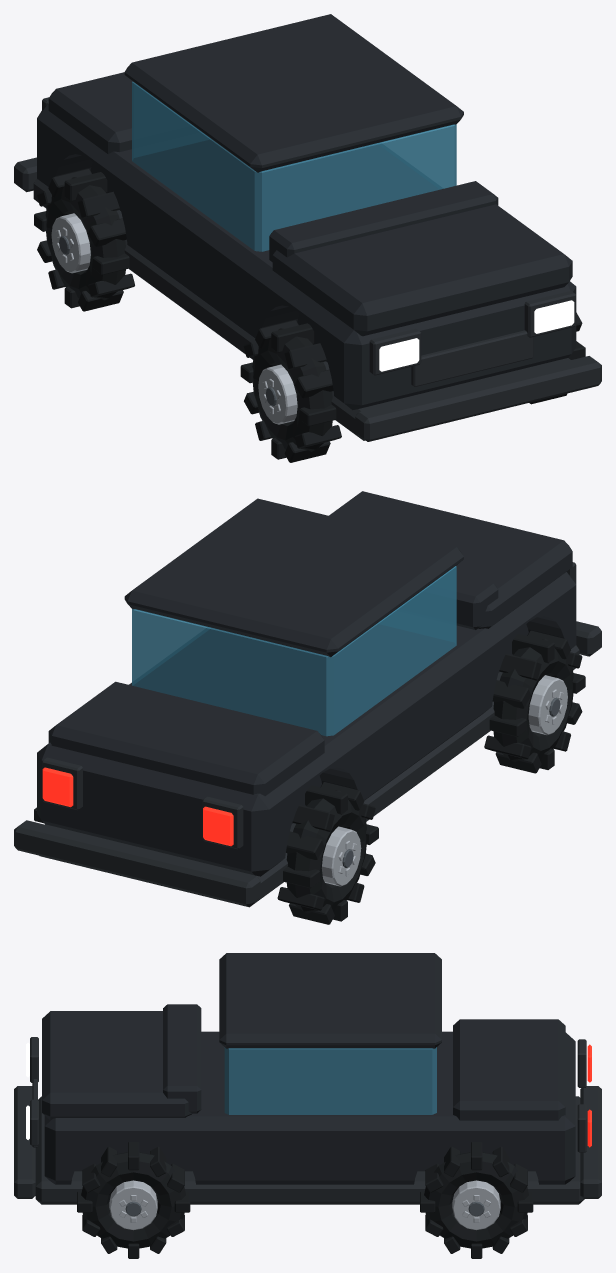
Rendered from Sedan.glb.
3 views of the same model, one above another, from view 1: azimuth 30°, elevation 25°; view 2: azimuth 150°, elevation 25°; view 3: azimuth 270°, elevation 25° (orthographic). The views are drawn at different scales.
Visible parts, largest first — view 1: BodyPaint_Mesh, Glass_Mesh, Trim_Mesh, Wheel_FL_Tire, Wheel_RL_Tire, Wheel_RL_Hub, Wheel_FL_Hub, HeadlightGlow_L, HeadlightGlow_R; view 2: BodyPaint_Mesh, Glass_Mesh, Trim_Mesh, Wheel_FL_Tire, Wheel_RL_Tire, Wheel_RL_Hub, Wheel_FL_Hub, TailLightGlow_R, TailLightGlow_L; view 3: BodyPaint_Mesh, Glass_Mesh, Trim_Mesh, Wheel_RR_Tire, Wheel_FR_Tire, Wheel_FR_Hub, Wheel_RR_Hub.
Part boxes in pixels (x1,y1,x2,y2): BodyPaint_Mesh: [37, 14, 576, 410]; Glass_Mesh: [132, 81, 456, 251]; Trim_Mesh: [14, 97, 601, 441]; Wheel_FL_Tire: [240, 320, 341, 462]; Wheel_RL_Tire: [34, 168, 134, 311]; Wheel_RL_Hub: [51, 213, 90, 273]; Wheel_FL_Hub: [258, 364, 297, 424]; HeadlightGlow_L: [379, 338, 419, 371]; HeadlightGlow_R: [534, 300, 574, 333]; BodyPaint_Mesh: [37, 491, 576, 876]; Glass_Mesh: [132, 566, 456, 736]; Trim_Mesh: [14, 562, 601, 907]; Wheel_FL_Tire: [484, 630, 585, 773]; Wheel_RL_Tire: [277, 782, 378, 924]; Wheel_RL_Hub: [321, 826, 361, 886]; Wheel_FL_Hub: [528, 675, 567, 735]; TailLightGlow_R: [42, 767, 73, 807]; TailLightGlow_L: [203, 806, 233, 846]; BodyPaint_Mesh: [42, 953, 575, 1184]; Glass_Mesh: [224, 1047, 436, 1114]; Trim_Mesh: [14, 1037, 601, 1204]; Wheel_RR_Tire: [420, 1142, 533, 1258]; Wheel_FR_Tire: [77, 1142, 190, 1258]; Wheel_FR_Hub: [109, 1180, 157, 1230]; Wheel_RR_Hub: [452, 1180, 500, 1230].
Size of what is drawn, in the model's own units: 2.14 by 1.81 by 4.6.
